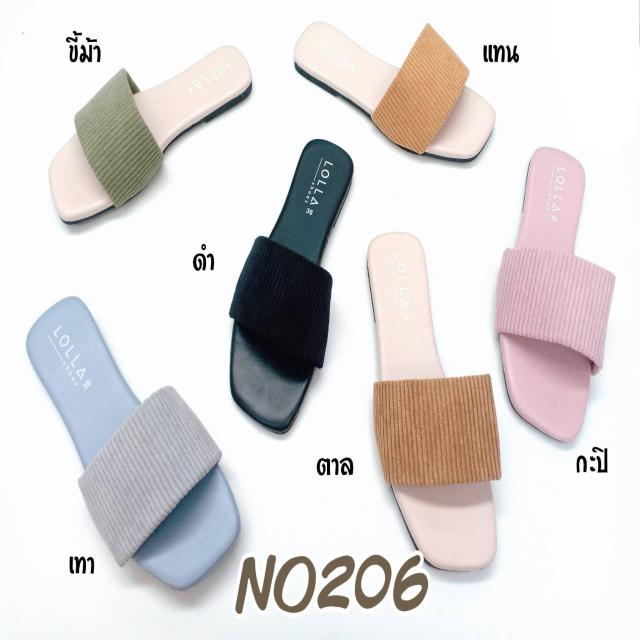black: (220, 125, 362, 430)
grey: (32, 296, 251, 604)
kakee: (34, 34, 267, 238)
kapi: (496, 137, 616, 466)
tan: (291, 8, 514, 164)
tarn: (366, 228, 517, 582)
